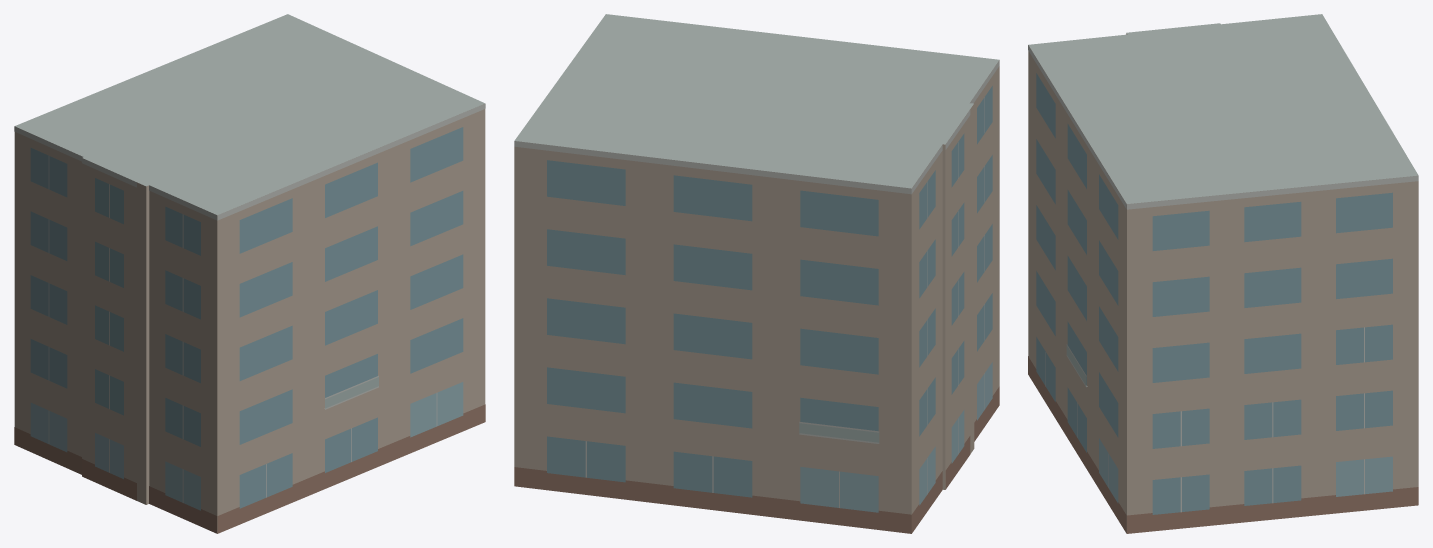
File: survey-upis-32827622.glb
3 views of the same model, side by side, from view 1: azimuth 30°, elevation 25°; view 2: azimuth 150°, elevation 25°; view 3: azimuth 270°, elevation 25° (orthographic). The views are drawn at different scales.
Parts seen in each view (by area): view 1: survey-upis-32827622.tmp; view 2: survey-upis-32827622.tmp; view 3: survey-upis-32827622.tmp.
Boxes of the visible parts, left/top/right/bottom form: survey-upis-32827622.tmp: left=14, top=14, right=485, bottom=533; survey-upis-32827622.tmp: left=514, top=14, right=999, bottom=533; survey-upis-32827622.tmp: left=1028, top=14, right=1418, bottom=533.
Bounding box in the file's own units: 18 × 14.55 × 15.63.
